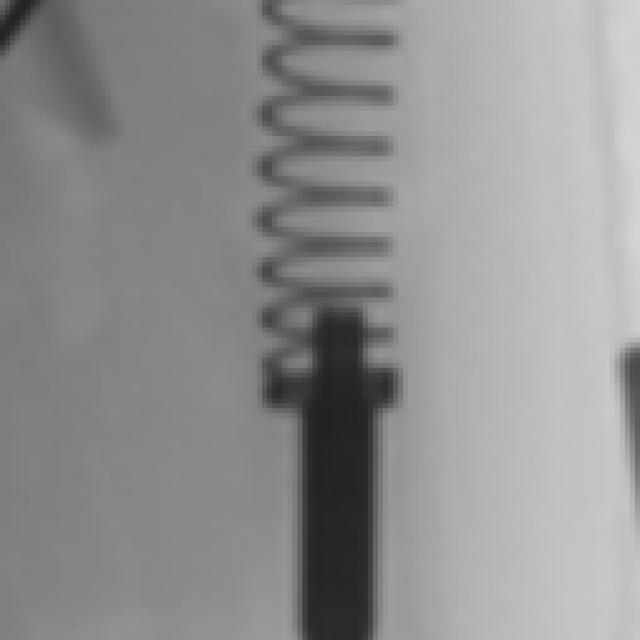GUN: (295, 308, 388, 615)
